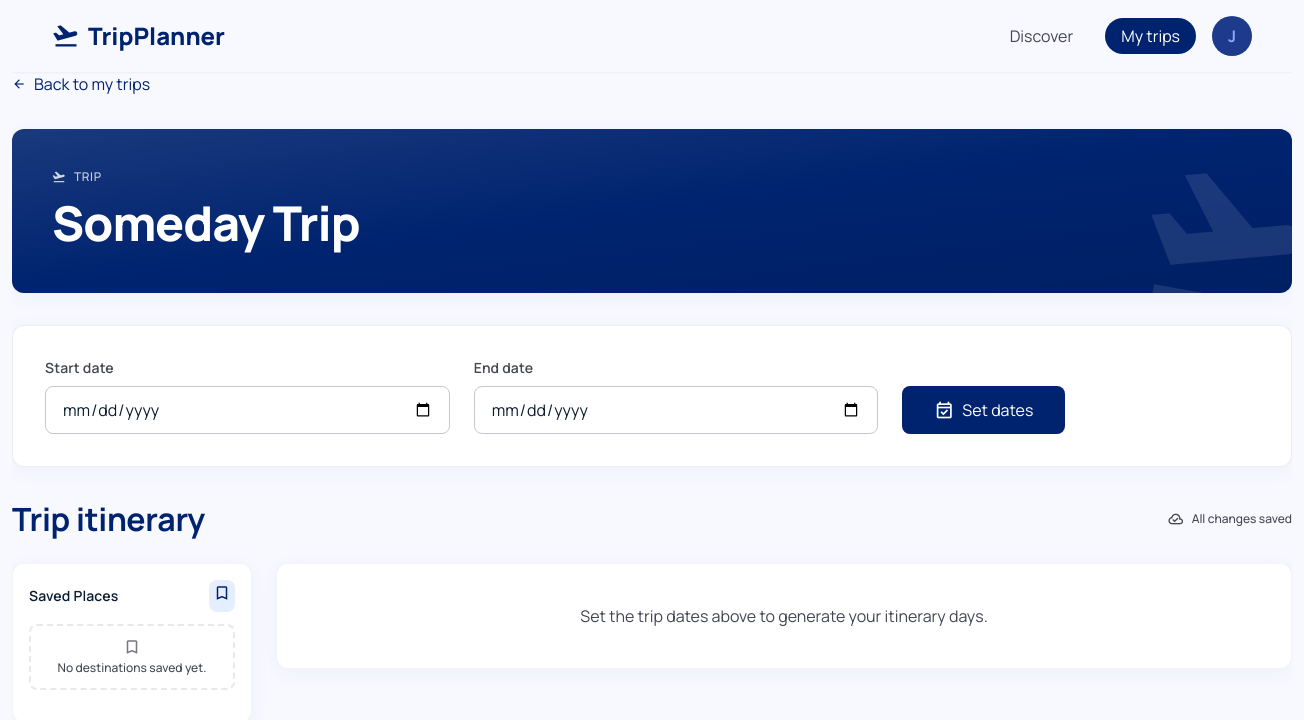
Test case: TripPlannerPage › sets dates and generates itinerary days (F3-US2)
Expected: the heading "Someday Trip" is shown, [52, 190, 360, 255]
Type "2026-09-01" into the date field labelled "Start date".
click(247, 410); type("2026-09-01")  # box [45, 386, 450, 434]
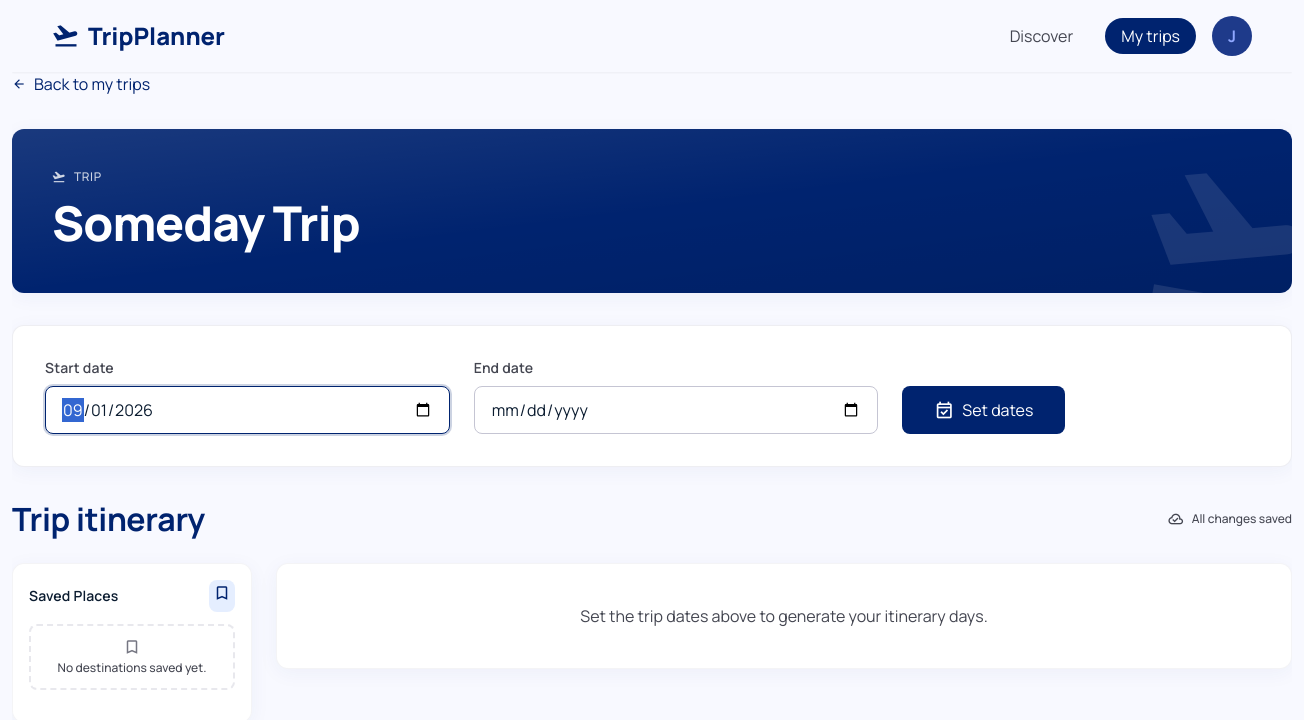
Type "2026-09-01" into the date field labelled "End date".
click(676, 410); type("2026-09-01")  # box [474, 386, 878, 434]
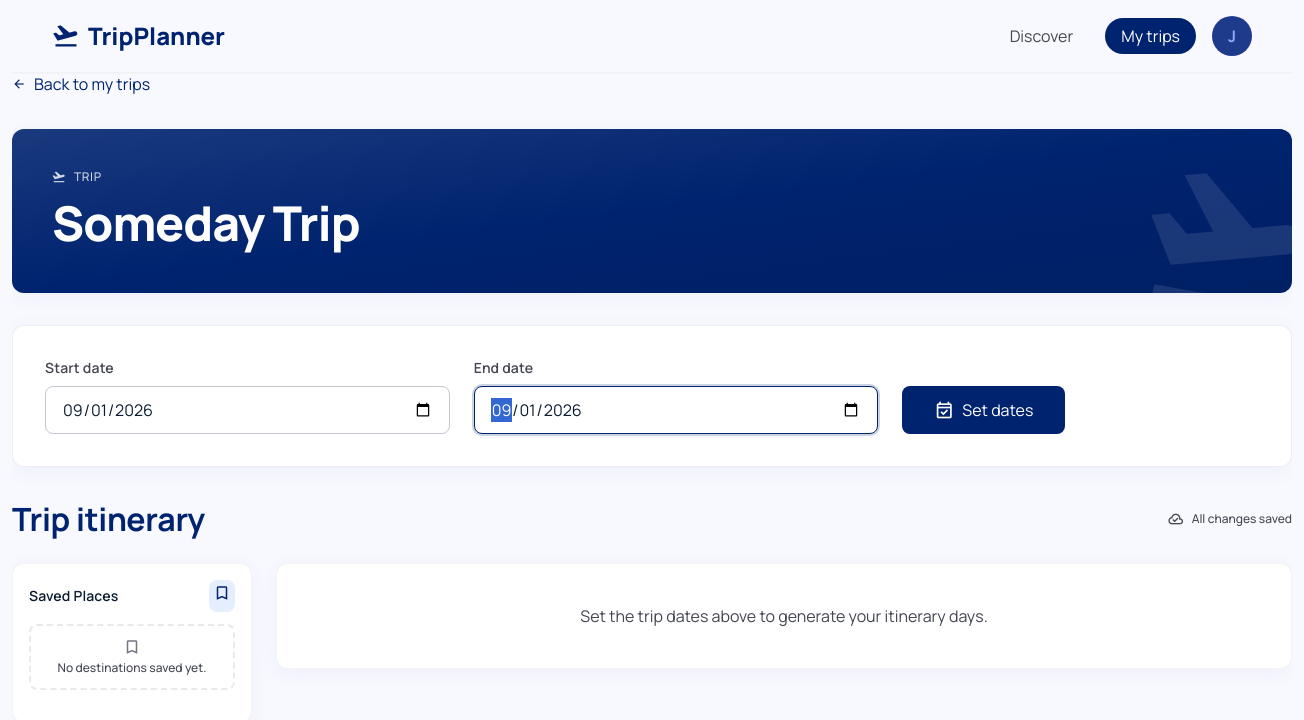
Click the button "Set dates".
click(984, 410)  # box [902, 386, 1065, 434]
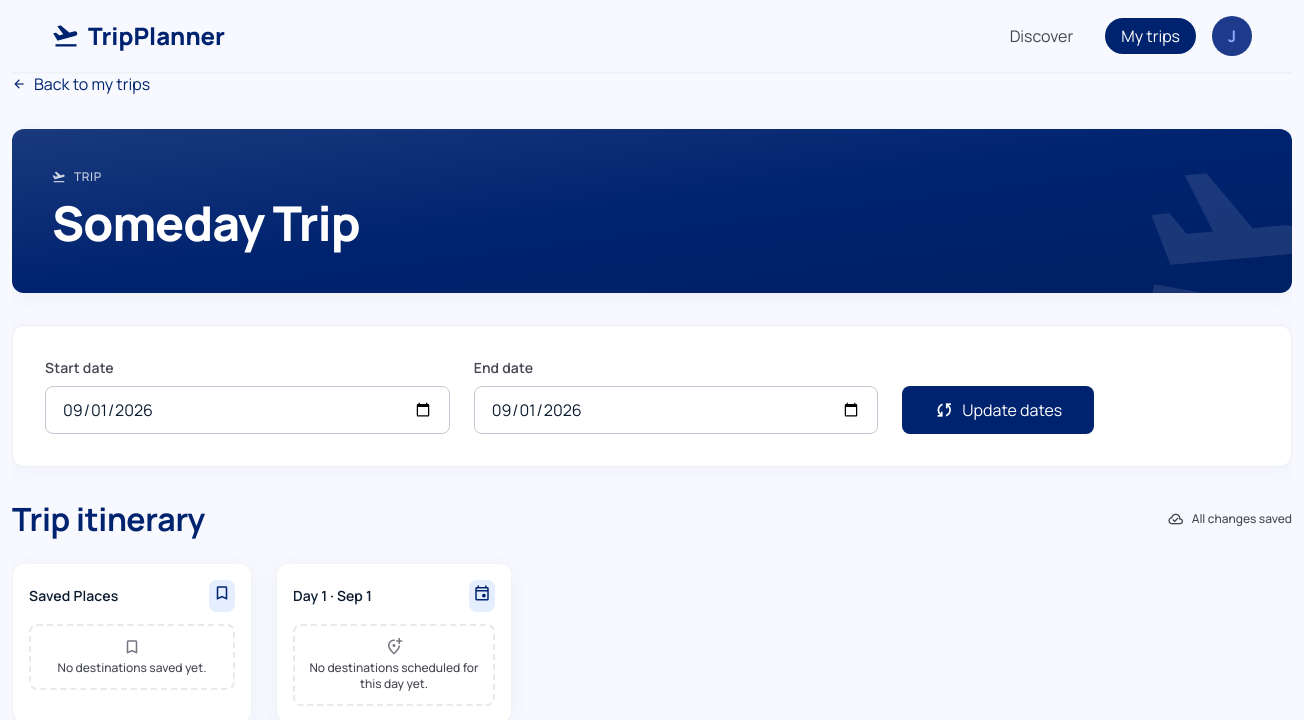
Now the heading "Day 1 · Sep 1" is shown, box [293, 586, 372, 606]
